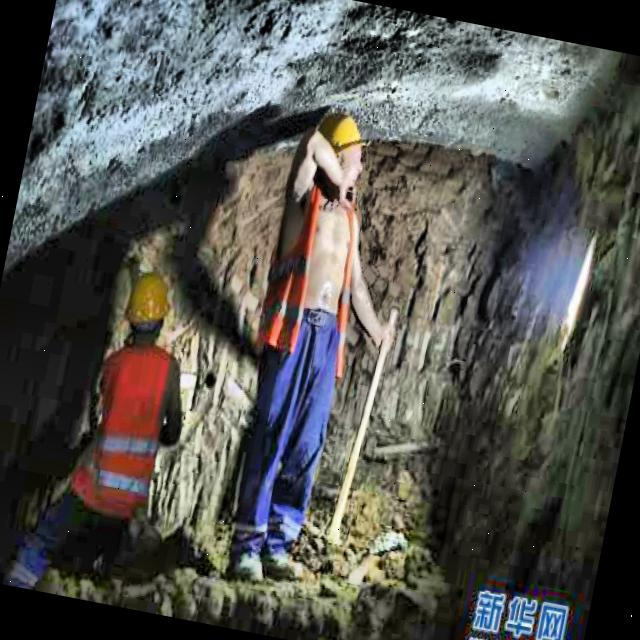helmet: (120, 266, 184, 346), (313, 108, 367, 187)
